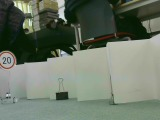speed_20: (1, 50, 17, 70)
